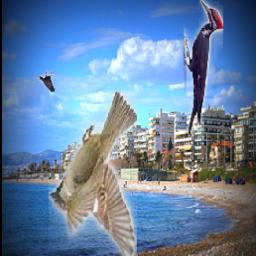Crow: (39, 72, 55, 93)
Sparrow: (50, 92, 138, 256)
Woodpecker: (184, 0, 223, 135)
